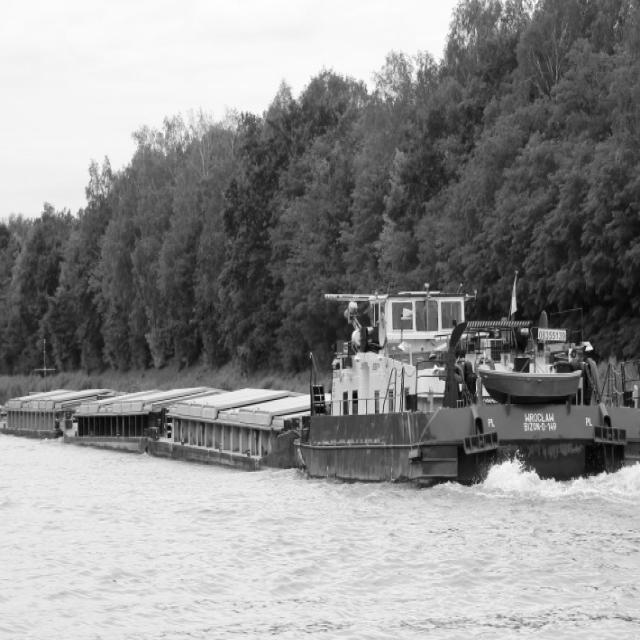tugboat: (294, 263, 640, 503)
